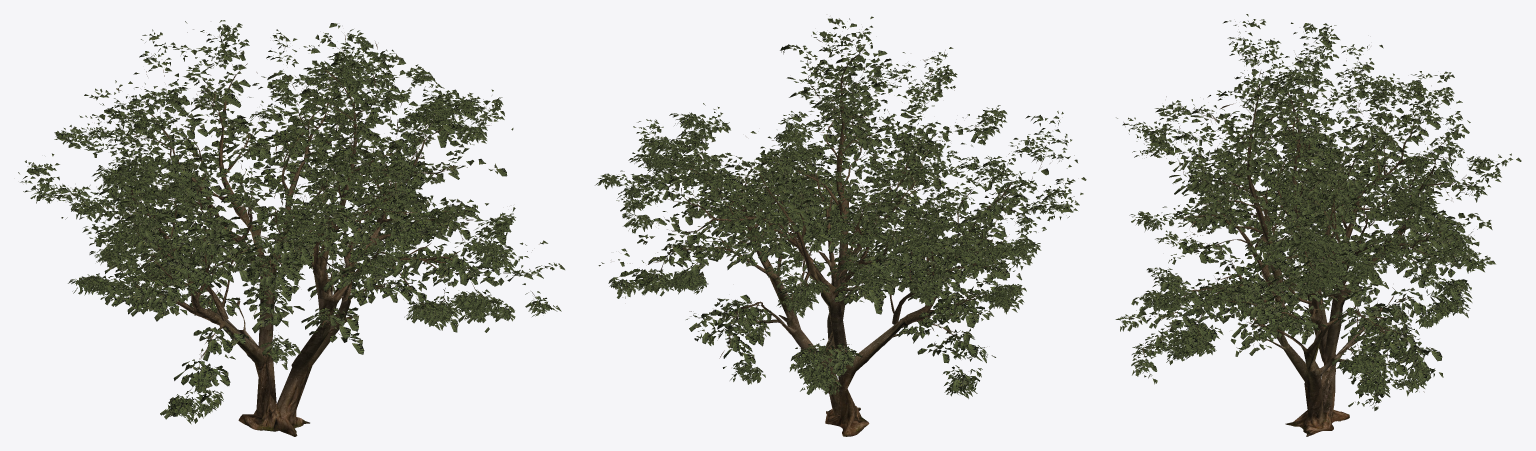
The model's file is tree.glb.
The picture shows the model from 3 angles, left to right: view 1: azimuth 30°, elevation 25°; view 2: azimuth 150°, elevation 25°; view 3: azimuth 270°, elevation 25°; orthographic projection. The views are drawn at different scales.
Visible parts, largest first — view 1: jacaranda_tree_LOD0; view 2: jacaranda_tree_LOD0; view 3: jacaranda_tree_LOD0.
Part boxes in pixels (x1,y1,x2,y2): jacaranda_tree_LOD0: [18, 20, 564, 436]; jacaranda_tree_LOD0: [595, 16, 1086, 436]; jacaranda_tree_LOD0: [1115, 14, 1521, 436].
Size of the model in its own units: 24.16 by 19.33 by 19.05.
Materials: 3 (3 with a texture image).
